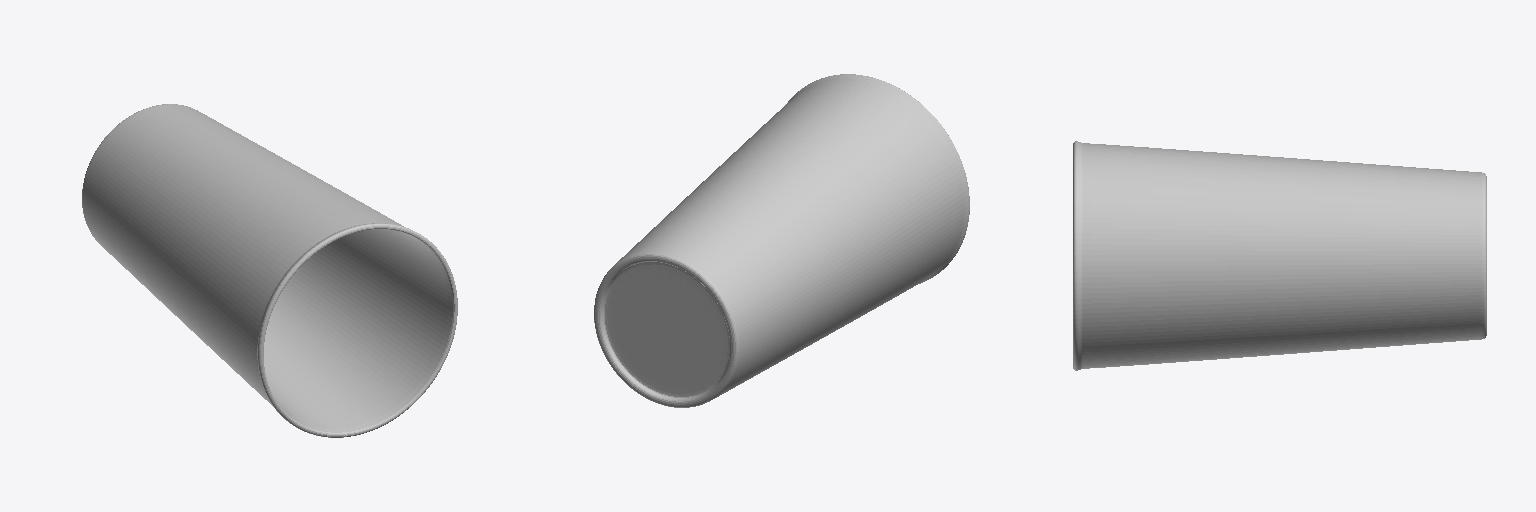
The model's file is glass.obj.
3 views of the same model, side by side, from view 1: azimuth 30°, elevation 25°; view 2: azimuth 150°, elevation 25°; view 3: azimuth 270°, elevation 25° (orthographic).
Visible parts, largest first — view 1: American_Pint_Glass_Cylinder; view 2: American_Pint_Glass_Cylinder; view 3: American_Pint_Glass_Cylinder.
Boxes of the visible parts, <box> form: American_Pint_Glass_Cylinder: <box>82,104,457,437</box>; American_Pint_Glass_Cylinder: <box>594,74,969,407</box>; American_Pint_Glass_Cylinder: <box>1073,141,1486,370</box>.
Bounding box in the file's own units: 0.0493 × 0.0493 × 0.0887.